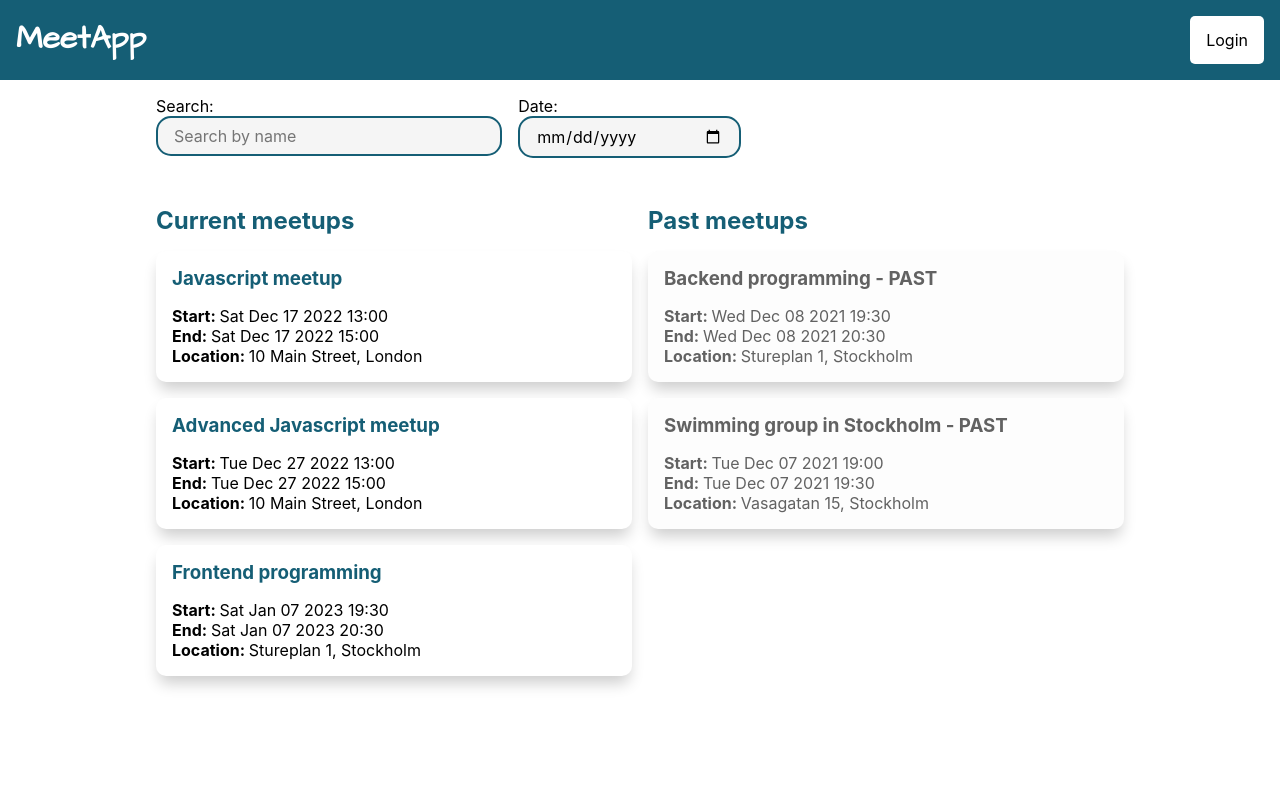
Test case: App integration tests - registering for events › renders message Meetup full if attendee limit is reached
Click the button "Login".
click(1227, 40)  # box [1190,16,1264,64]
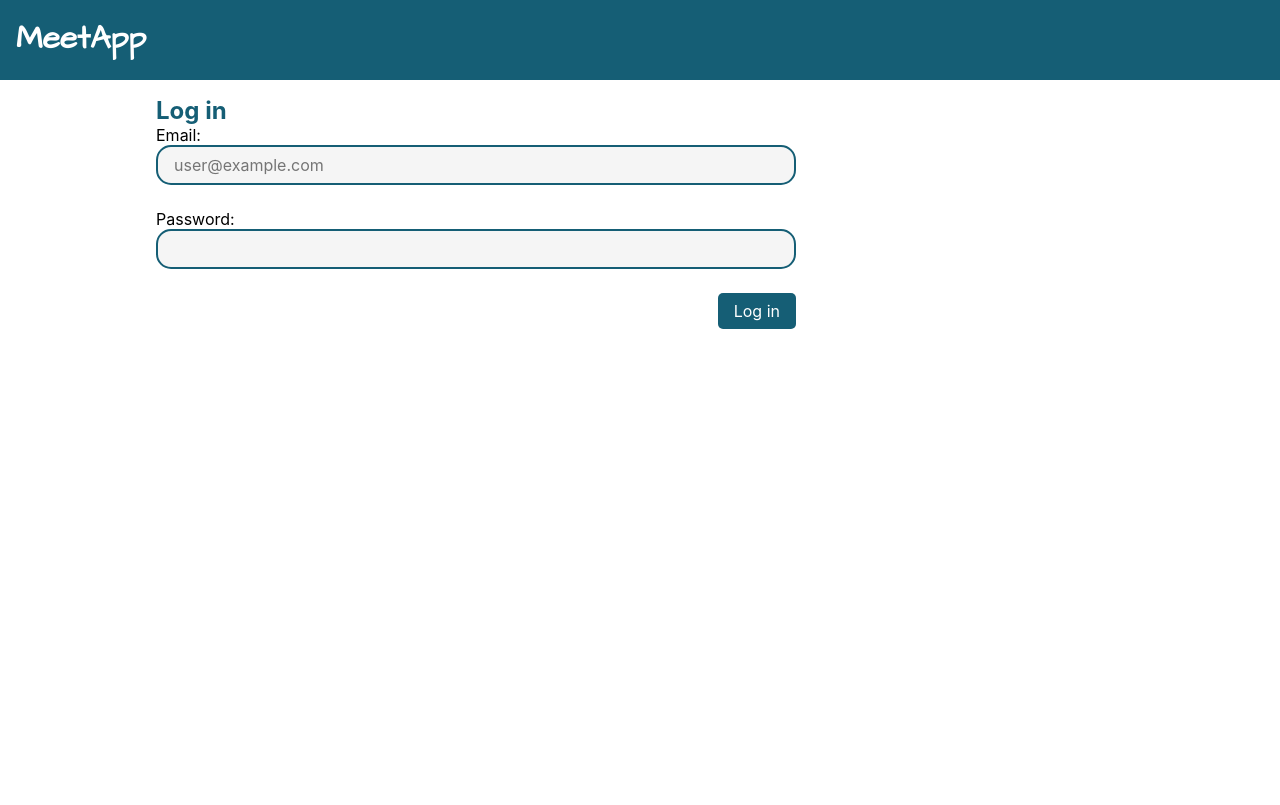
Type "emma@gmail.com" into the field labelled "Email:".
click(476, 165); type("emma@gmail.com")  # box [156,145,796,185]
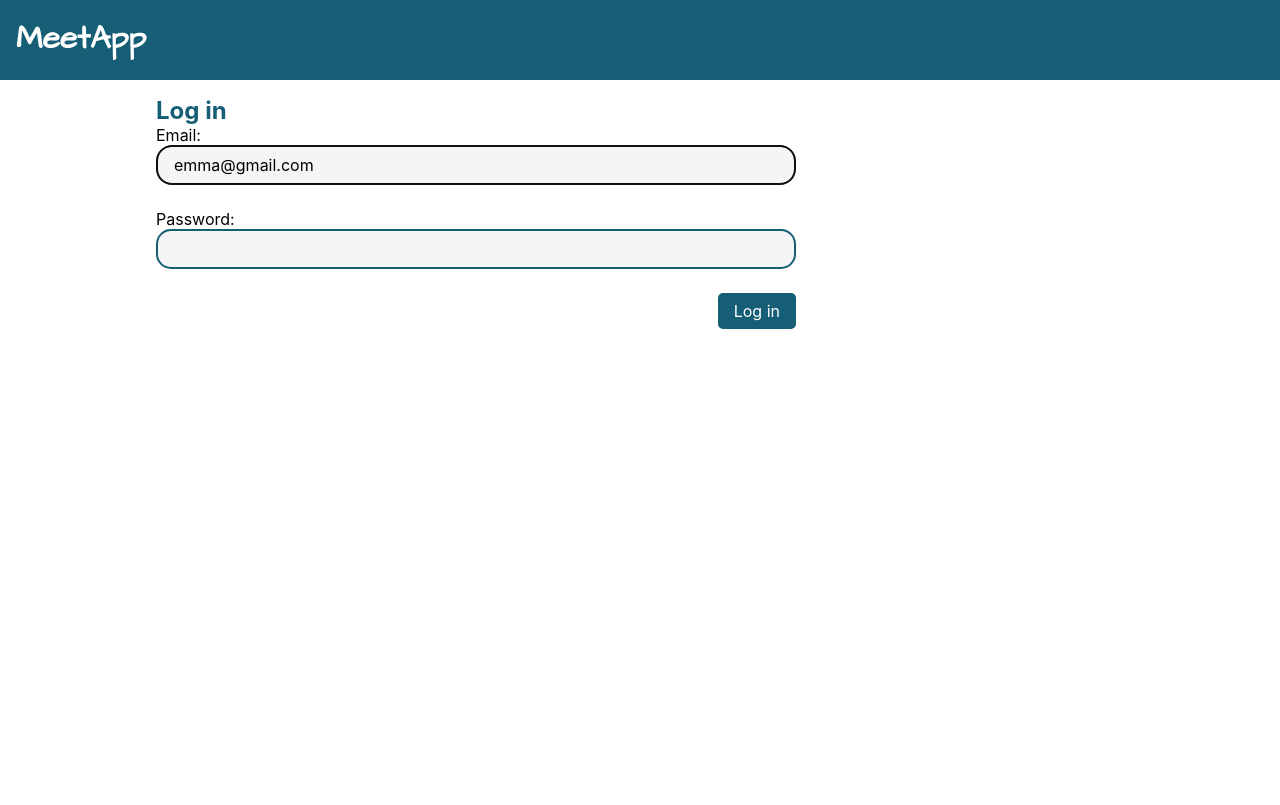
Type "emmaIsBest" into the password field labelled "Password:".
click(476, 249); type("emmaIsBest")  # box [156,229,796,269]
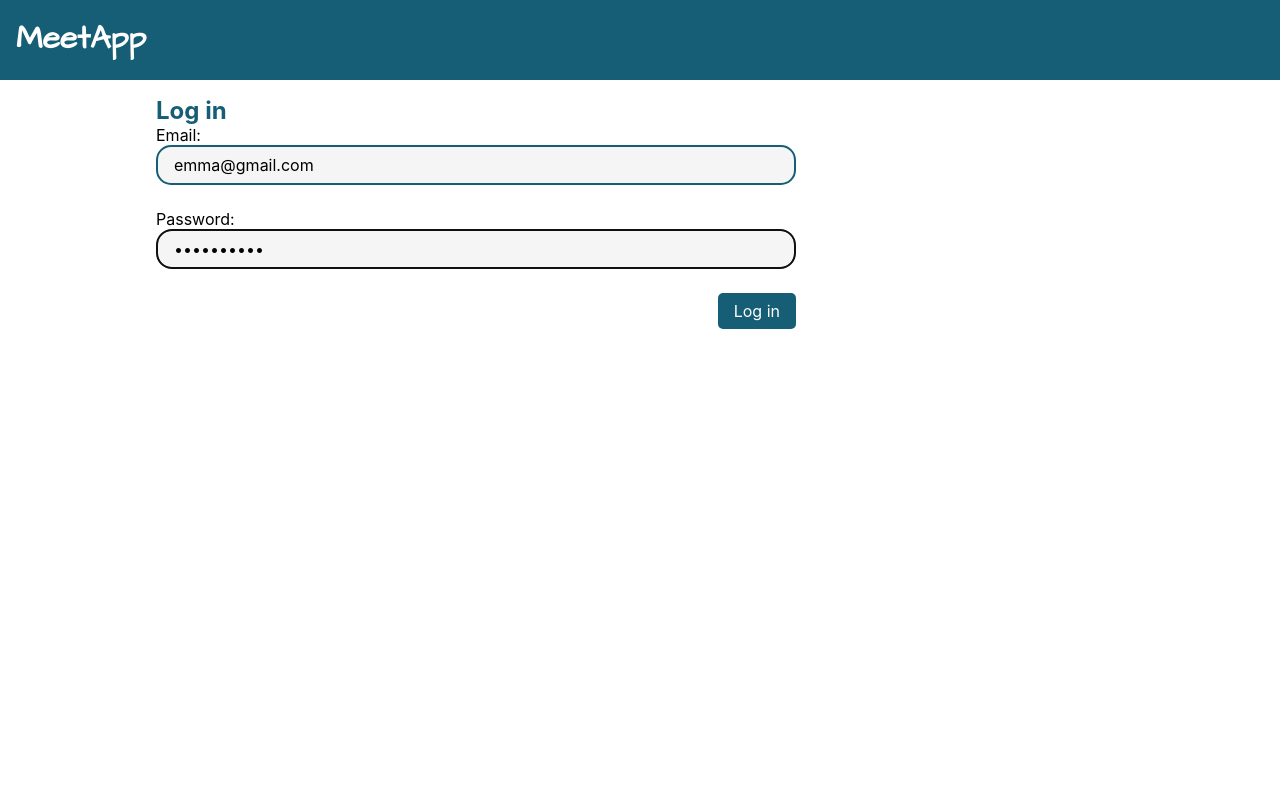
Click the button with test id "login-btn".
click(757, 311)  # box [718,293,796,329]
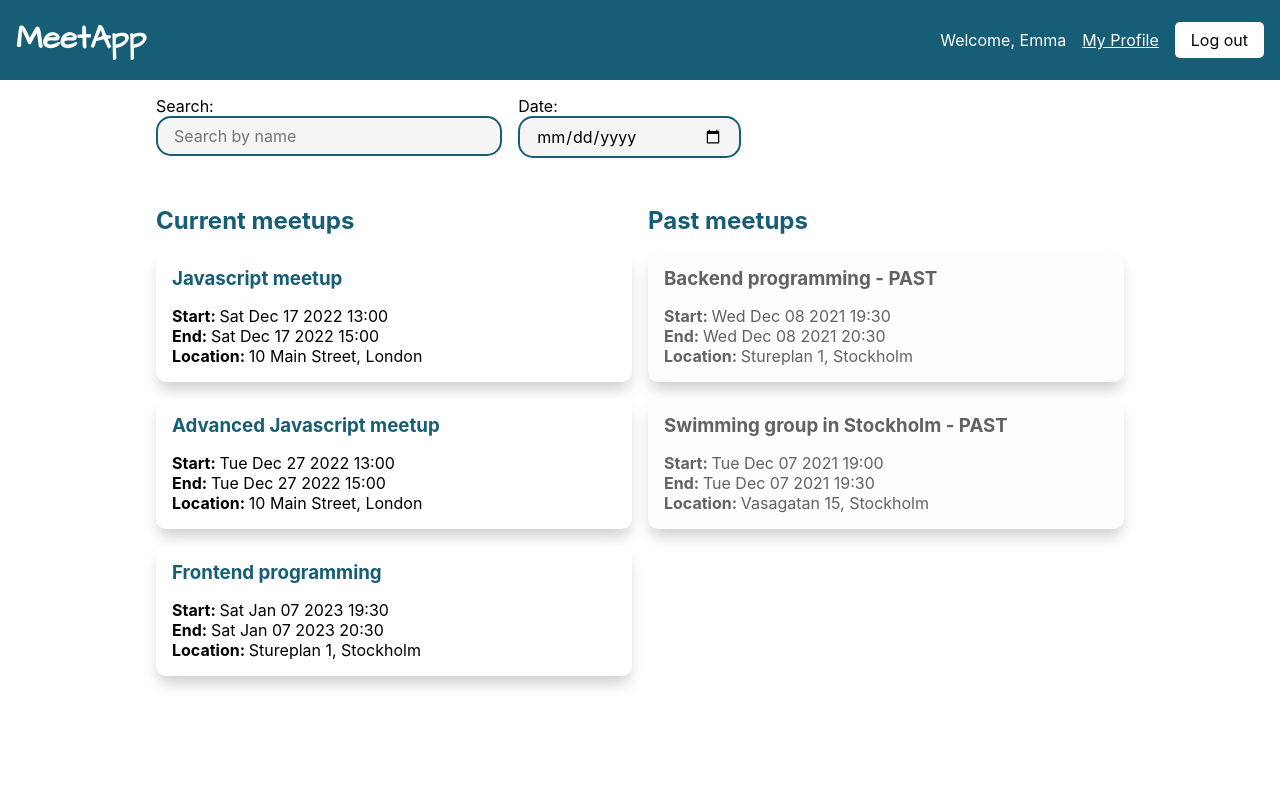
Click the link with test id "currentListItem".
click(394, 610)  # box [156,545,632,676]
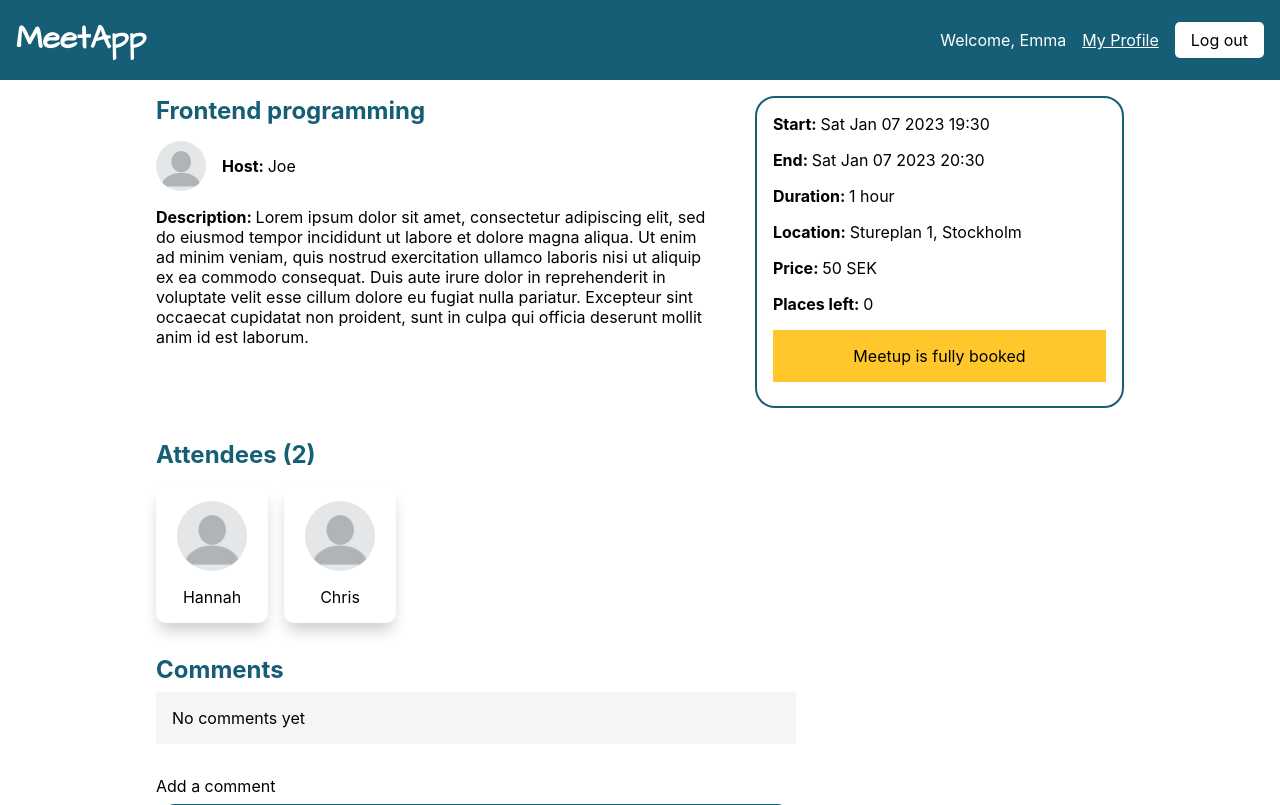
Expected: the text "Meetup is fully booked" is shown, [773,330,1106,382]
